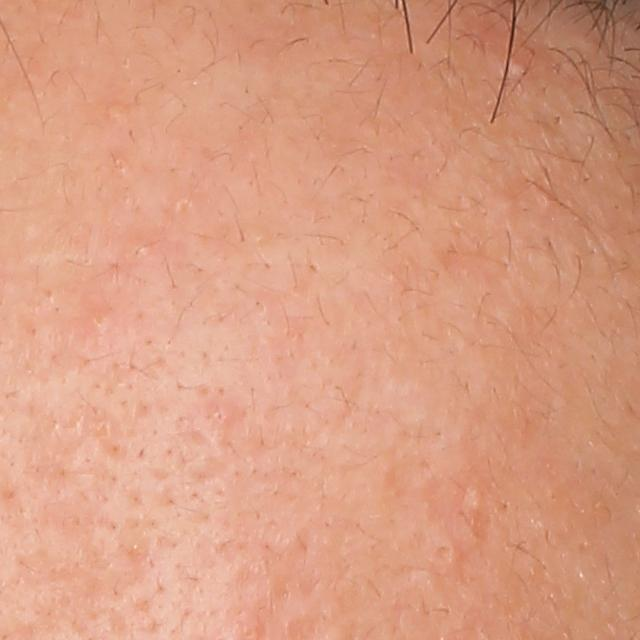comedo: (509, 61, 531, 81), (91, 311, 111, 333)
